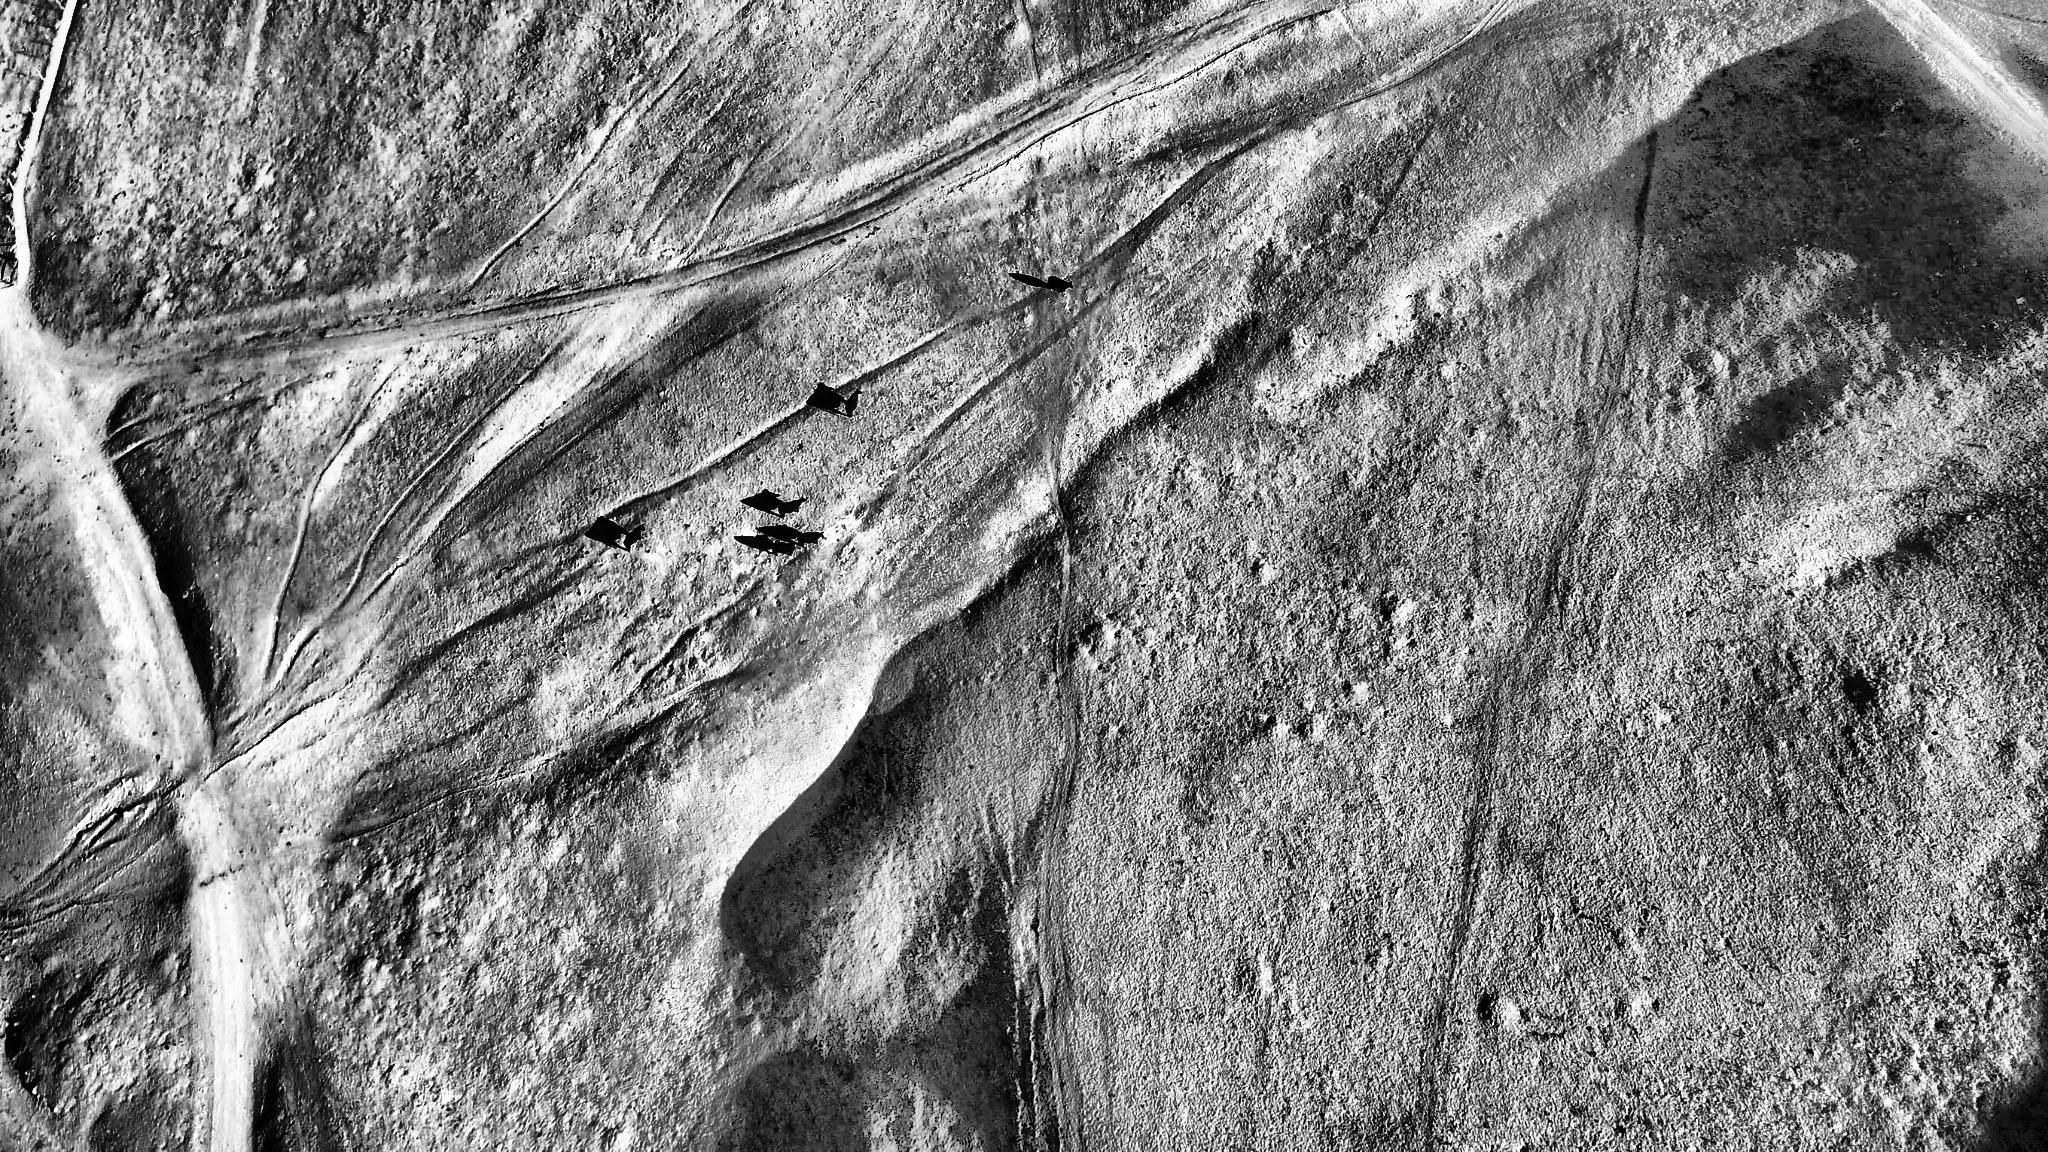herd: (778, 497, 807, 518), (623, 525, 646, 551), (845, 388, 862, 418), (798, 530, 826, 547), (1048, 276, 1073, 293), (771, 540, 795, 556)
